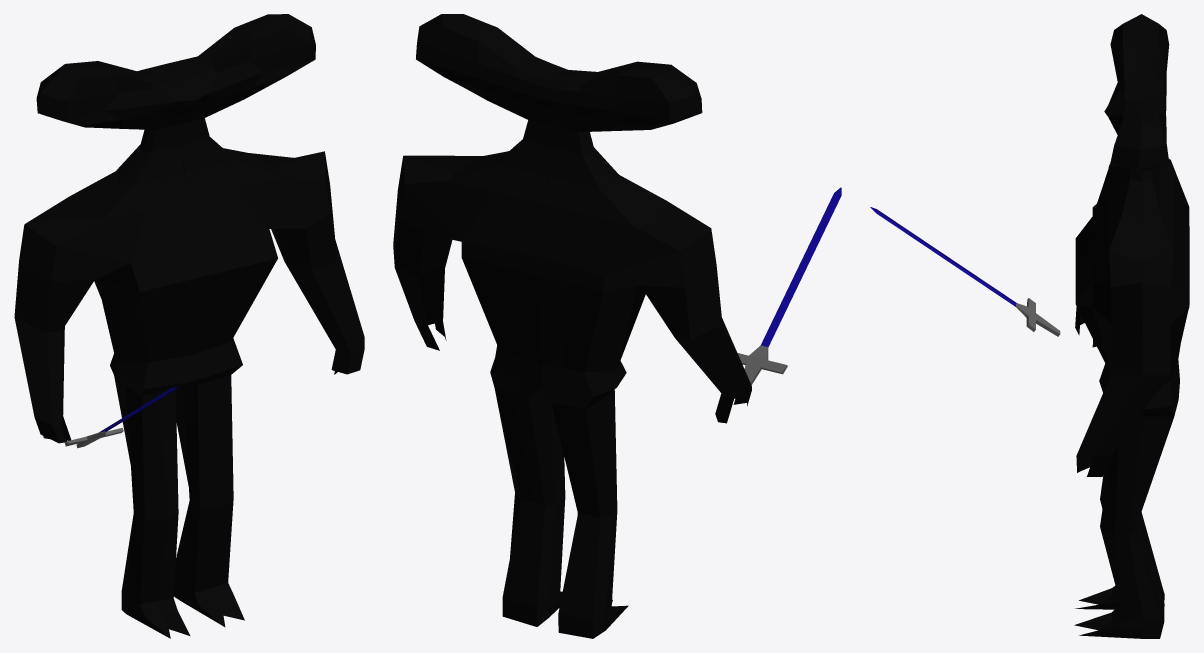
Rendered from SwordsMan.obj.
3 renders of one model, left to right at view 1: azimuth 30°, elevation 25°; view 2: azimuth 150°, elevation 25°; view 3: azimuth 270°, elevation 25°, orthographic. The views are drawn at different scales.
Visible parts, largest first — view 1: Cube, Plane; view 2: Cube, Plane; view 3: Cube, Plane.
Part boxes in pixels (box(x1,y1,x2,y2)): Cube: box(14, 14, 364, 638); Plane: box(65, 387, 177, 448); Cube: box(393, 14, 751, 638); Plane: box(737, 187, 841, 384); Cube: box(1074, 14, 1189, 638); Plane: box(870, 207, 1060, 336).
Bounding box in the file's own units: 11.45 × 18.67 × 9.83.
